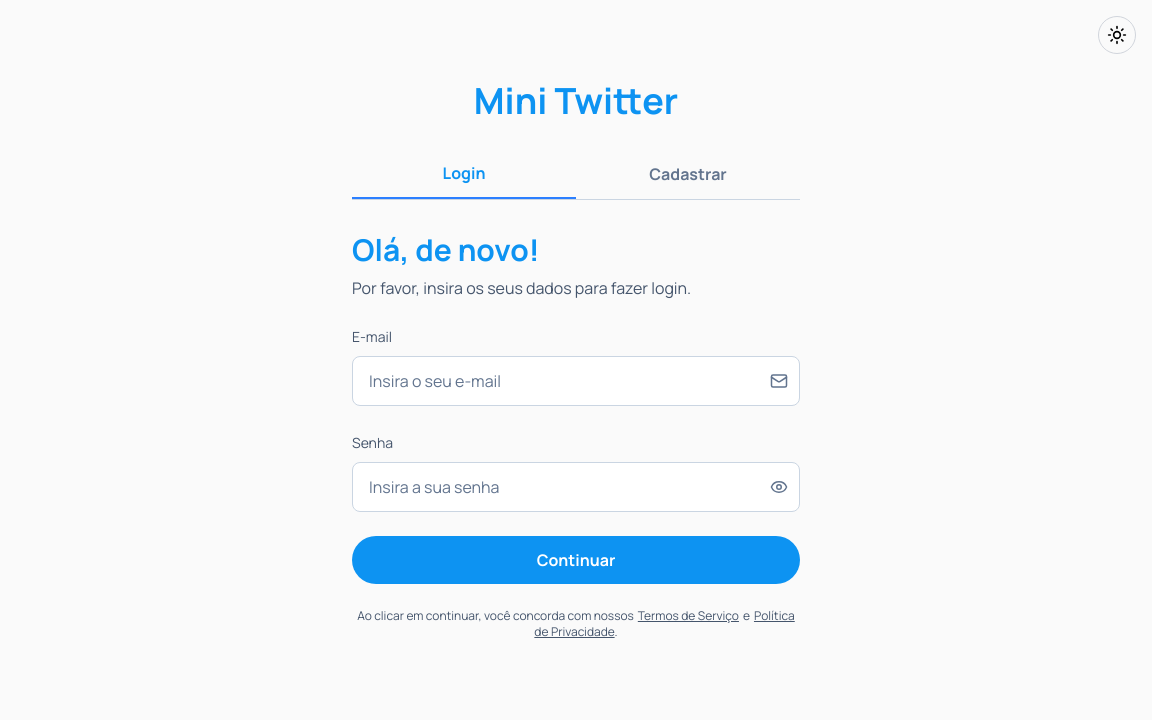
Test case: Timeline (com login real) › should search posts
This screenshot has width=1152, height=720.
Type "vitor@email.com" into the field with placeholder "Insira o seu e-mail" at (576, 381), box [352,356,800,406]
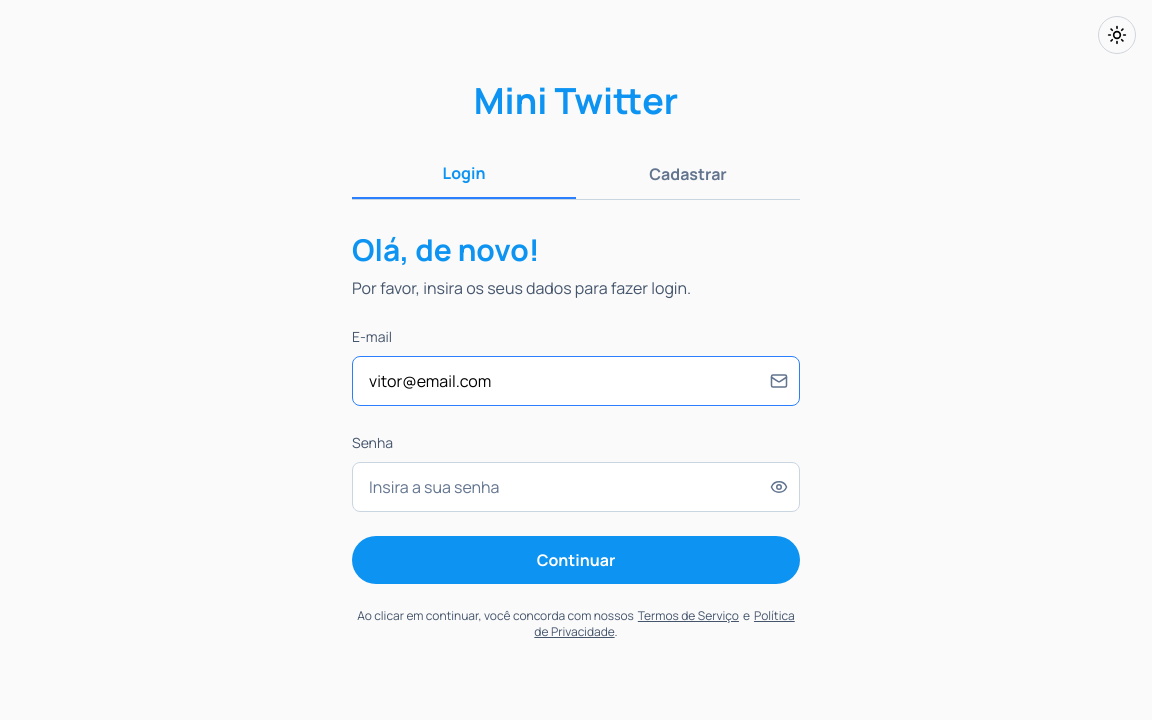
Type "123456" into the password field with placeholder "Insira a sua senha" at (576, 487), box [352,462,800,512]
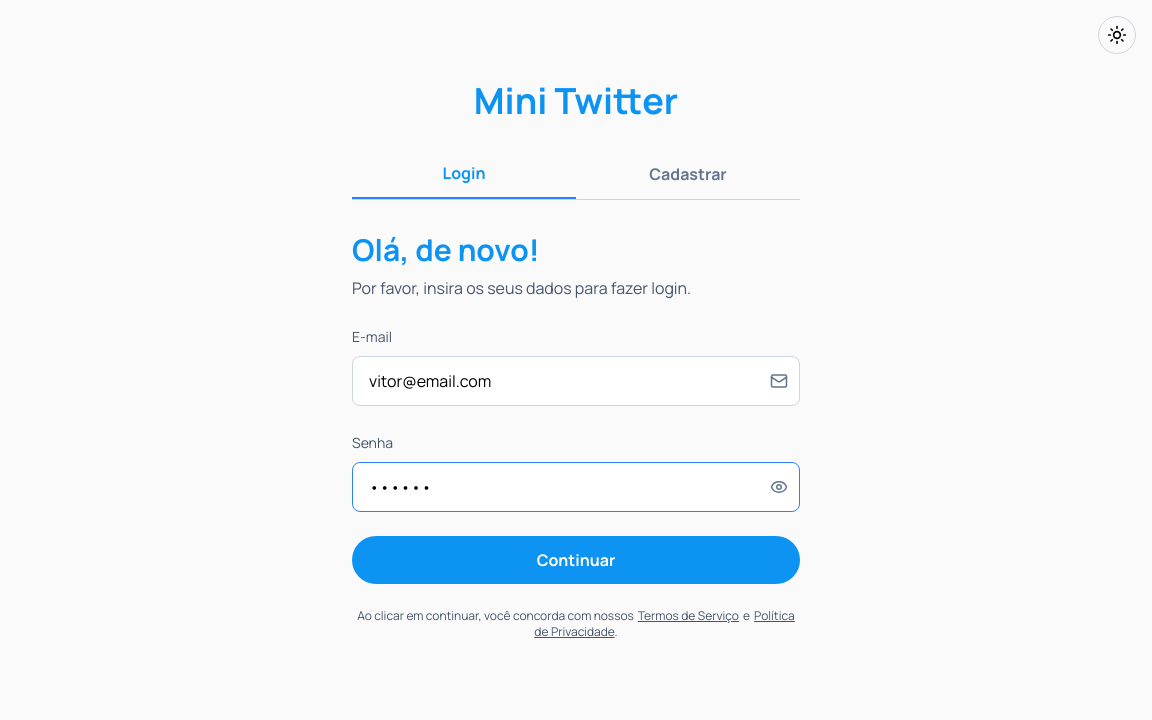
Click the submit button at (576, 560), box [352,536,800,584]
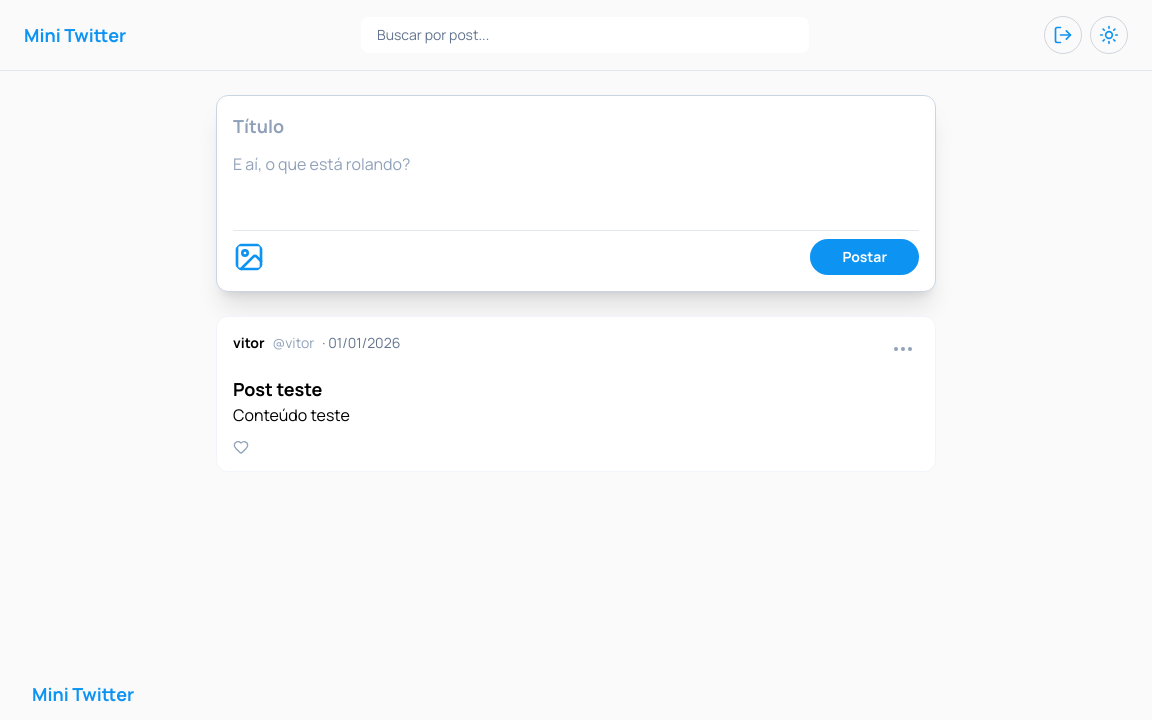
Open "/"
Type "busca" into the field with placeholder "Buscar por post..." at (585, 35), box [361,17,809,53]
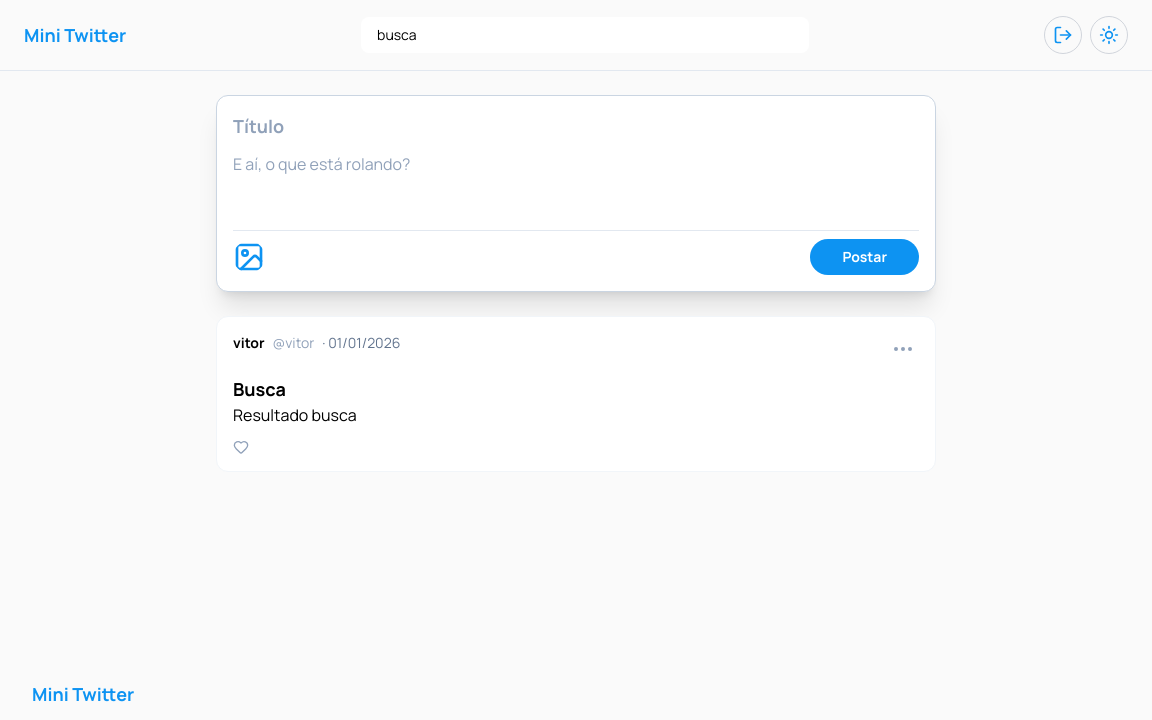
Expected: the heading "Busca" is shown, [233,377,286,401]
